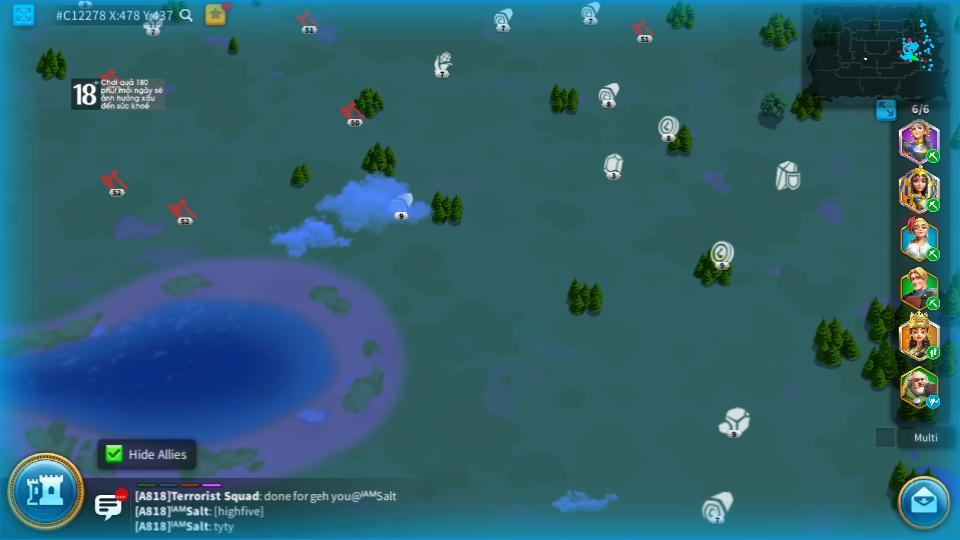gem-z-out: (601, 153, 623, 179)
march_farming: (925, 197, 941, 212), (925, 345, 941, 359), (924, 149, 939, 162), (924, 248, 939, 260), (925, 297, 941, 308)
march_idle: (925, 394, 942, 408)
